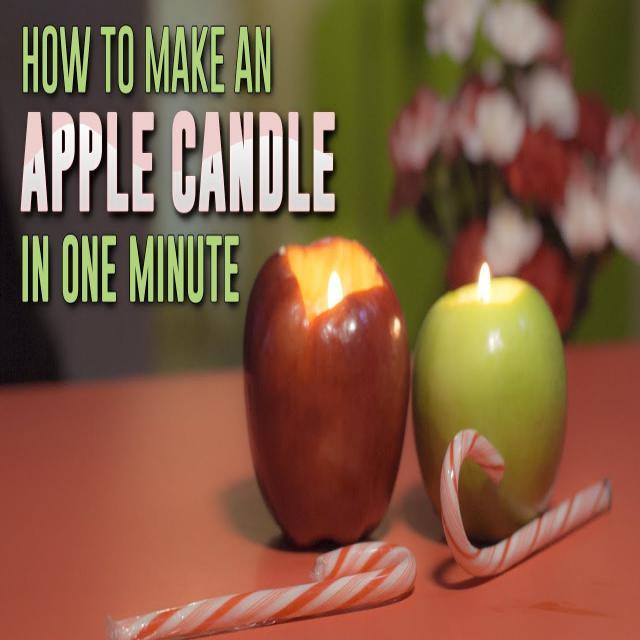APPLE: (242, 240, 411, 548), (411, 261, 571, 537)
